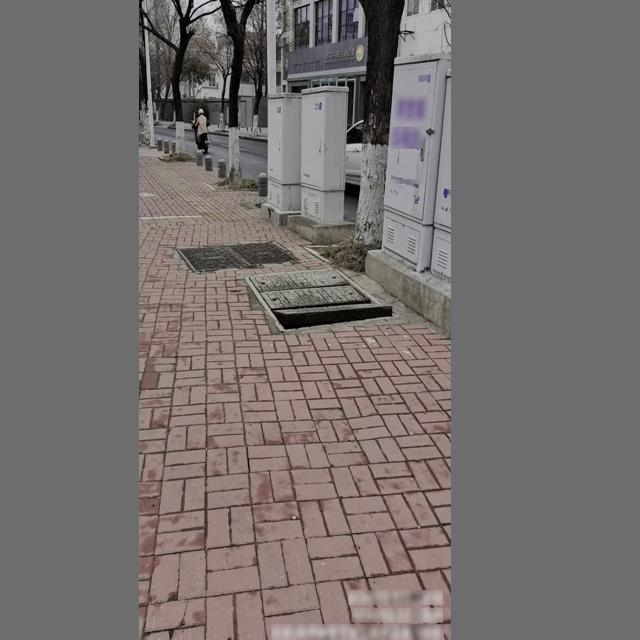good: (175, 236, 300, 276)
uncovered: (244, 268, 395, 337)
